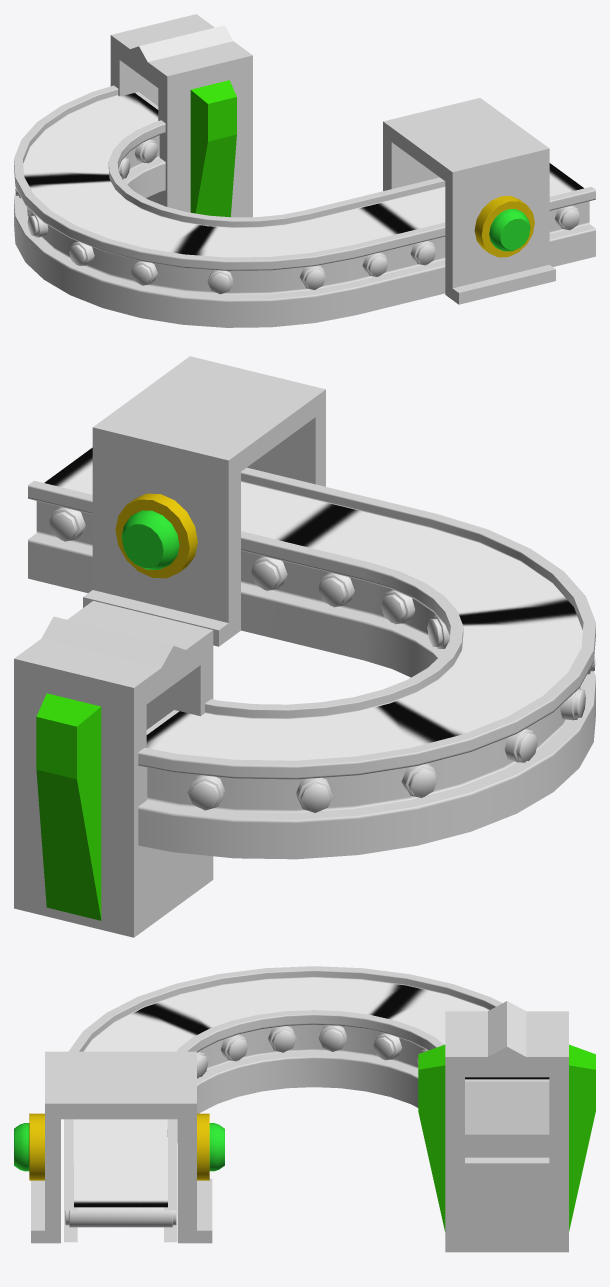
The model's file is SM_TapisRoulant_01.fbx.
3 views of the same model, one above another, from view 1: azimuth 30°, elevation 25°; view 2: azimuth 150°, elevation 25°; view 3: azimuth 270°, elevation 25° (orthographic). The views are drawn at different scales.
Visible parts, largest first — view 1: Cube, Cylinder.002, Cube.001; view 2: Cube, Cylinder.002, Cube.001; view 3: Cube, Cylinder.002, Cube.001.
Part boxes in pixels (x1,y1,x2,y2): Cube: (14,14,595,327); Cylinder.002: (15,139,580,294); Cube.001: (474,196,534,257); Cube: (14,356,595,937); Cylinder.002: (49,507,595,812); Cube.001: (115,493,197,578); Cube: (31,966,595,1252); Cylinder.002: (65,1025,427,1227); Cube.001: (14,1113,224,1180).
Size of the model in its own units: 730 by 305 by 768.
